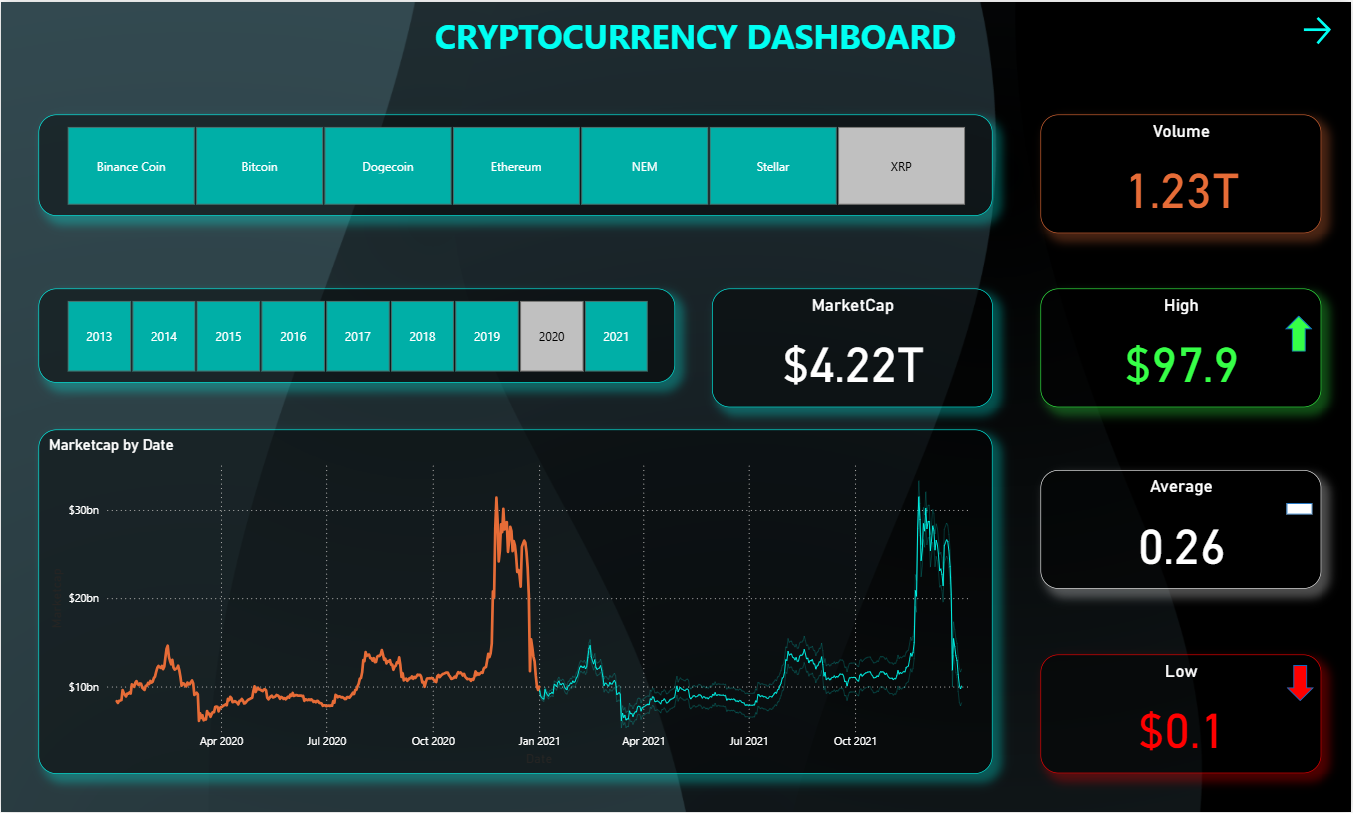

This screenshot's page, from the dashboard's own definition file:
{"tool":"powerbi","page":{"name":"Page 1","canvas":[1500,900],"ordinal":0},"visuals":[{"type":"slicer","fields":{"Values":["CryptoData_CSV.Name"]},"box":[41.8,125.4,1059.7,112.6],"z":0},{"type":"slicer","fields":{"Values":["CryptoData_CSV.Year"]},"box":[41.8,318.4,707.5,104.5],"z":1000},{"type":"lineChart","fields":{"Category":["CryptoData_CSV.Date"],"Y":["Sum(CryptoData_CSV.Marketcap)"]},"box":[41.8,474.4,1059.7,382.7],"z":2000},{"type":"actionButton","box":[1442.4,11.3,46.6,40.2],"z":3000},{"type":"textbox","box":[310.4,6.4,923,64.3],"z":4000},{"type":"card","title":"MarketCap","fields":{"Values":["Sum(CryptoData_CSV.Marketcap)"]},"box":[789.6,318.4,312,131.9],"z":5000},{"type":"card","title":"Volume","fields":{"Values":["Sum(CryptoData_CSV.Volume)"]},"box":[1154.6,125.4,312,131.9],"z":6000},{"type":"card","title":"High","fields":{"Values":["Sum(CryptoData_CSV.High)"]},"box":[1154.6,318.4,312,131.9],"z":7000},{"type":"card","title":"Average","fields":{"Values":["Avg(CryptoData_CSV.Average)"]},"box":[1154.6,519.4,312,131.9],"z":8000},{"type":"card","title":"Low","fields":{"Values":["Min(CryptoData_CSV.Low)"]},"box":[1154.6,725.2,312,131.9],"z":9000},{"type":"shape","box":[1426.4,349,30.6,40.2],"z":10000},{"type":"shape","box":[1428,736.5,30.6,40.2],"z":11000},{"type":"shape","box":[1428,556.4,28.9,12.9],"z":12000}]}

Visuals, with their boxes in screenshot pixels (x1, y1, x2, y2), scaled from the page's 1500x900 canvas onto the 1353x813 screenshot:
slicer - CryptoData_CSV.Name: (left=38, top=113, right=994, bottom=215)
slicer - CryptoData_CSV.Year: (left=38, top=288, right=676, bottom=382)
lineChart - CryptoData_CSV.Date x Sum(CryptoData_CSV.Marketcap): (left=38, top=429, right=994, bottom=774)
actionButton: (left=1301, top=10, right=1343, bottom=47)
textbox: (left=280, top=6, right=1113, bottom=64)
"MarketCap" card: (left=712, top=288, right=994, bottom=407)
"Volume" card: (left=1041, top=113, right=1323, bottom=232)
"High" card: (left=1041, top=288, right=1323, bottom=407)
"Average" card: (left=1041, top=469, right=1323, bottom=588)
"Low" card: (left=1041, top=655, right=1323, bottom=774)
shape: (left=1287, top=315, right=1314, bottom=352)
shape: (left=1288, top=665, right=1316, bottom=702)
shape: (left=1288, top=503, right=1314, bottom=514)
